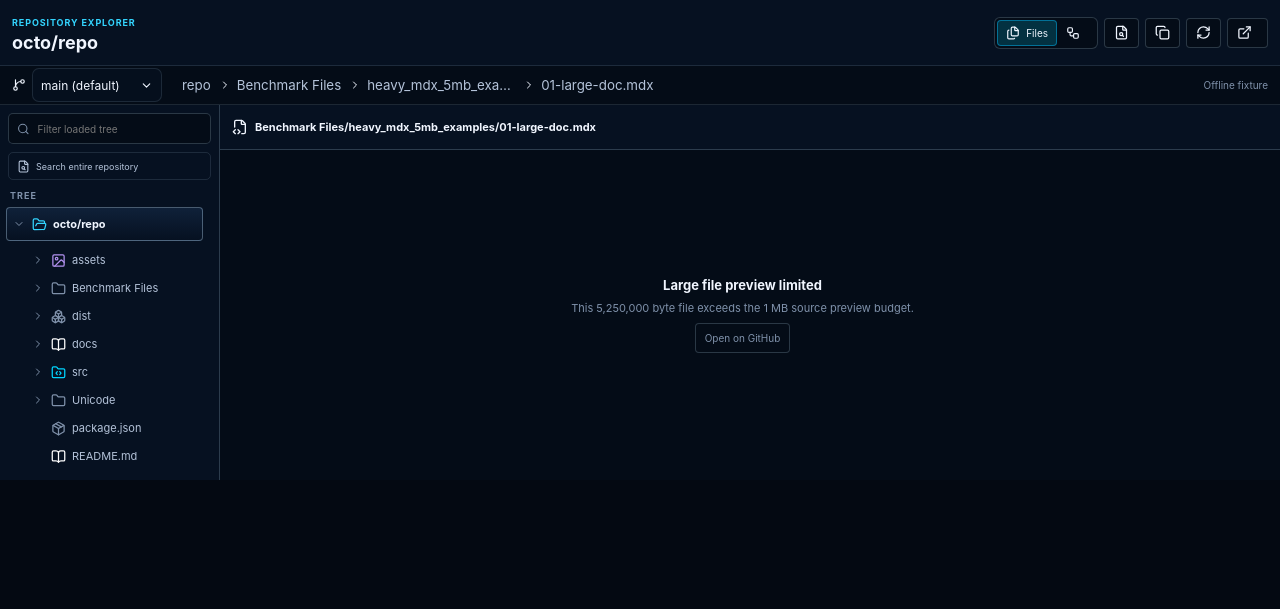
RepositoryExplorer tree presentation › clicking parent directory breadcrumbs clears file preview without crashing
Expected: the text "Large file preview limited" is shown, [663, 277, 822, 293]
Click the button "heavy_mdx_5mb_examples" at [441, 85], box [361, 76, 521, 94]
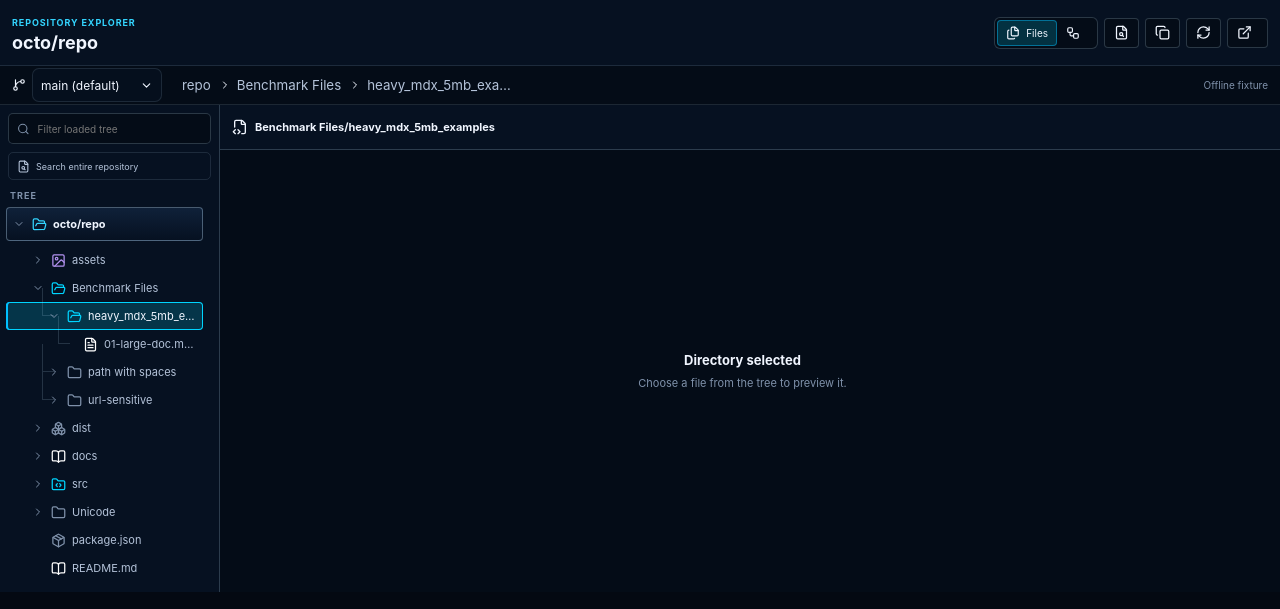
Expected: the text "Directory selected" is shown, [684, 352, 801, 368]
Expected: the text "Choose a file from the tree to preview it." is shown, [638, 376, 847, 390]
Expected: the text "Large file preview limited" is gone
